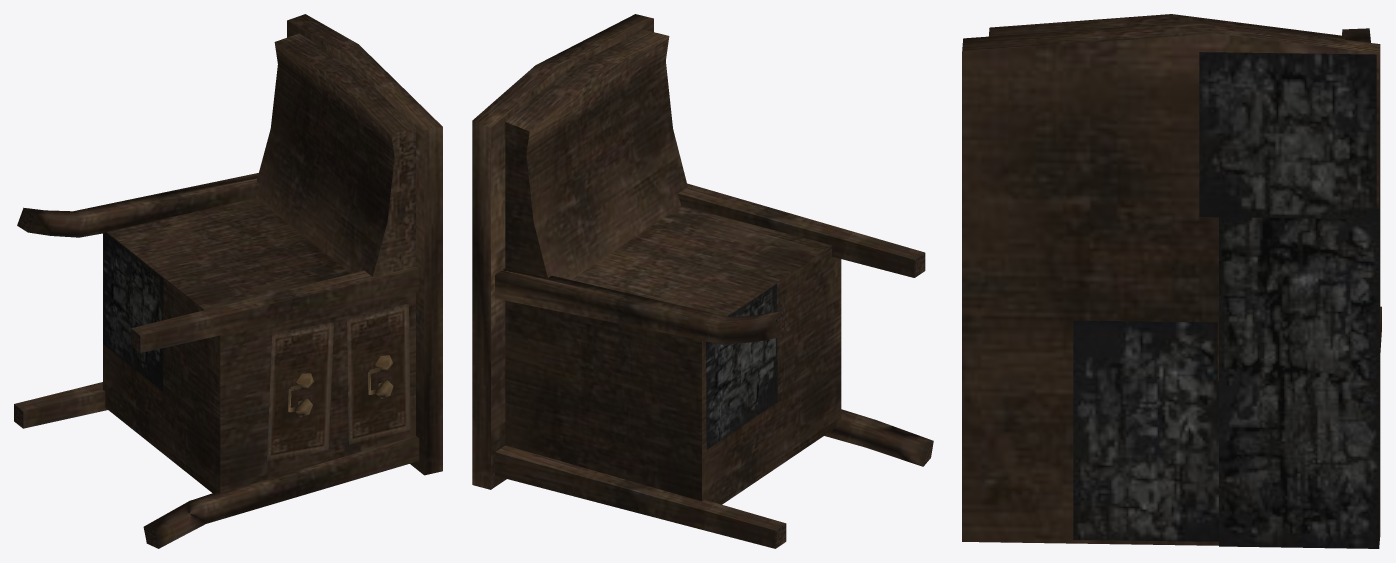
The model's file is furniture_desk_d_c.glb.
3 views of the same model, side by side, from view 1: azimuth 30°, elevation 25°; view 2: azimuth 150°, elevation 25°; view 3: azimuth 270°, elevation 25° (orthographic). The views are drawn at different scales.
Size of the model in its own units: 37.41 by 44.15 by 31.87.
1 material, 1 textured.
